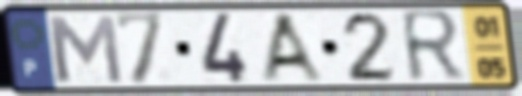2: (341, 10, 397, 84)
4: (198, 10, 251, 88)
7: (112, 9, 168, 88)
A: (257, 10, 330, 85)
M: (42, 13, 127, 86)
R: (396, 6, 468, 87)
